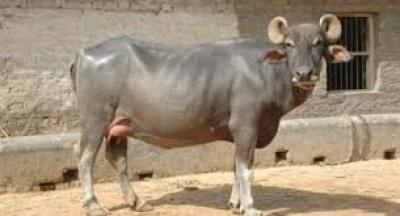buffalo: (72, 14, 350, 215)
